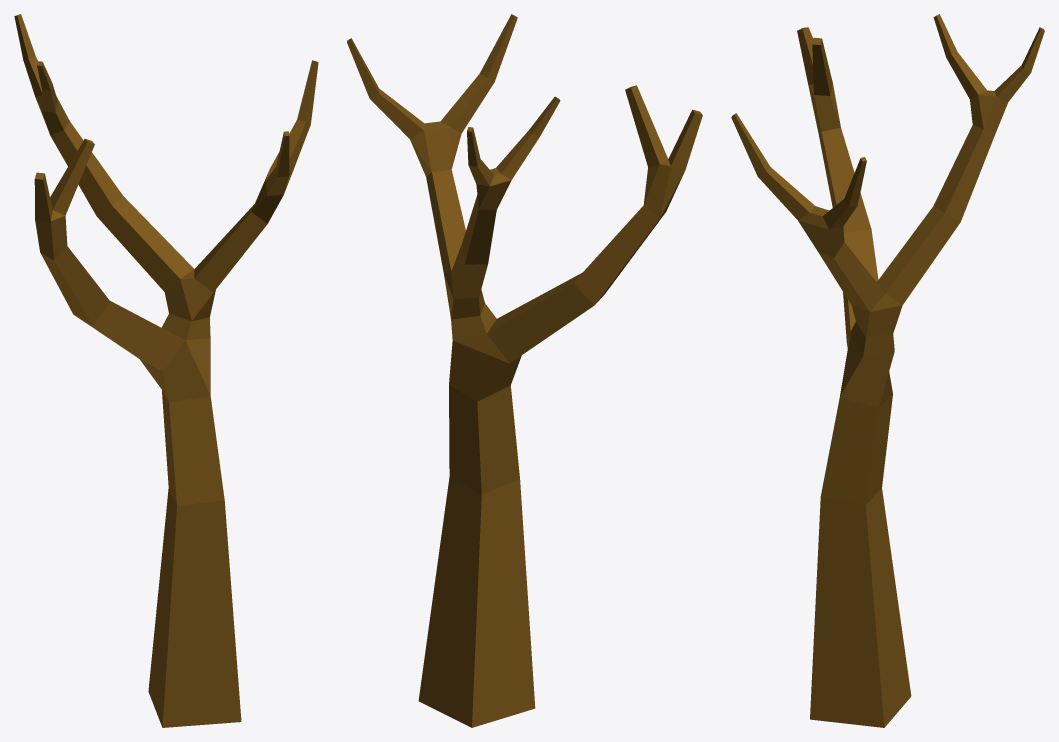
Rendered from TreeTrunk2.fbx.
The picture shows the model from 3 angles, left to right: view 1: azimuth 30°, elevation 25°; view 2: azimuth 150°, elevation 25°; view 3: azimuth 270°, elevation 25°; orthographic projection. The views are drawn at different scales.
Parts seen in each view (by area): view 1: TreeTrunk; view 2: TreeTrunk; view 3: TreeTrunk.
Part boxes in pixels (bbox=[...]): TreeTrunk: bbox=[14, 14, 318, 727]; TreeTrunk: bbox=[347, 14, 702, 727]; TreeTrunk: bbox=[731, 14, 1044, 727].
Bounding box in the file's own units: 136 × 269 × 119.
